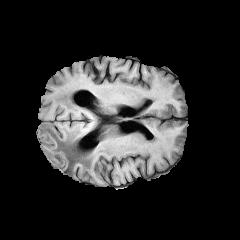glioma: (39, 90, 115, 173)
